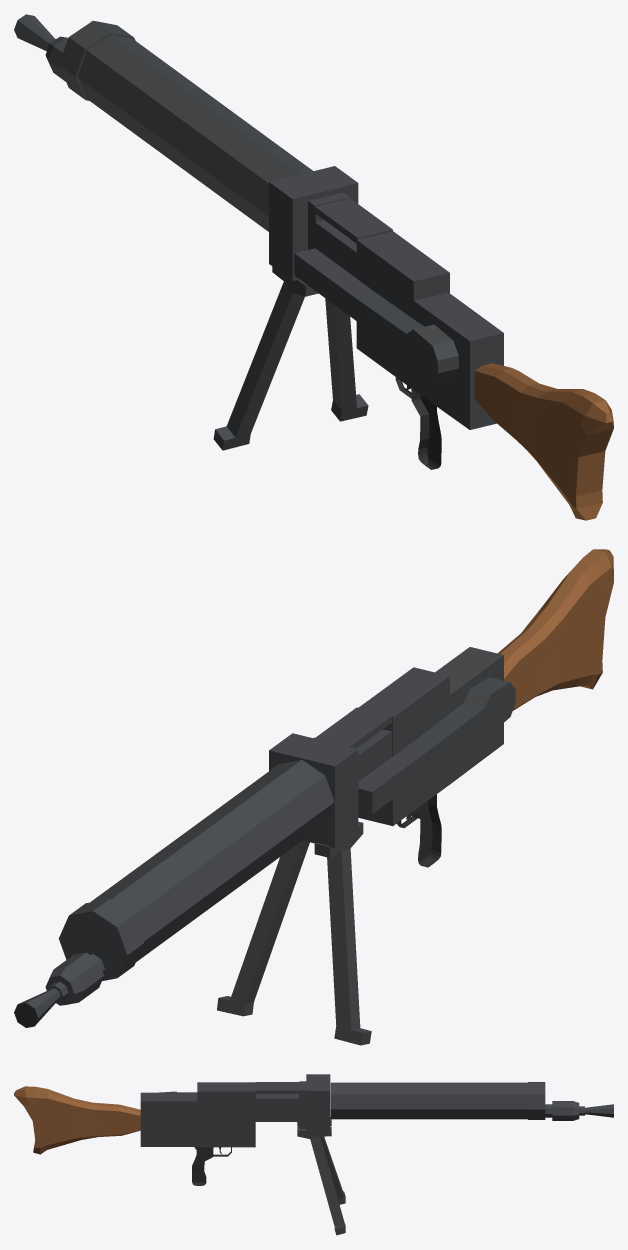
The model's file is mitrailleuse.glb.
3 views of the same model, one above another, from view 1: azimuth 30°, elevation 25°; view 2: azimuth 150°, elevation 25°; view 3: azimuth 270°, elevation 25° (orthographic). The views are drawn at different scales.
Parts seen in each view (by area): view 1: MG08_Cube_Metal, MG08_Cube_Wood, MG08_Cube_Trigger; view 2: MG08_Cube_Metal, MG08_Cube_Wood, MG08_Cube_Trigger; view 3: MG08_Cube_Metal, MG08_Cube_Wood, MG08_Cube_Trigger.
Boxes of the visible parts, x1,y1,x2,y2 form: MG08_Cube_Metal: (14, 14, 503, 450); MG08_Cube_Wood: (474, 363, 613, 520); MG08_Cube_Trigger: (395, 377, 441, 469); MG08_Cube_Metal: (18, 647, 515, 1045); MG08_Cube_Wood: (497, 549, 613, 710); MG08_Cube_Trigger: (14, 794, 441, 1027); MG08_Cube_Metal: (140, 1074, 613, 1235); MG08_Cube_Wood: (14, 1086, 140, 1154); MG08_Cube_Trigger: (192, 1147, 231, 1185).
Bounding box in the file's own units: 1.14 × 1.99 × 8.
